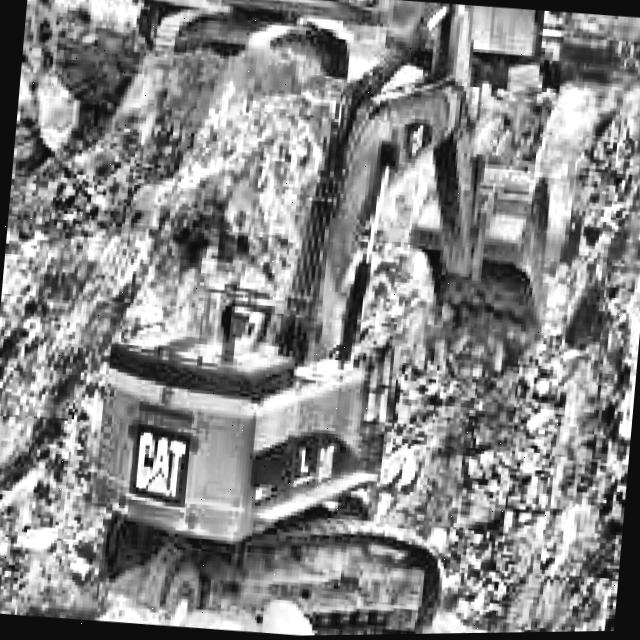dump_truck: (419, 2, 572, 78)
excavator: (77, 0, 565, 639), (14, 0, 393, 173)
